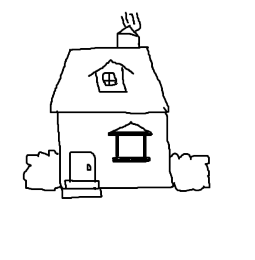door: (64, 145, 100, 187)
open_window: (108, 122, 152, 162)
roof: (45, 45, 174, 117)
smoking_chimney: (112, 8, 144, 53)
wall: (51, 106, 175, 192)
